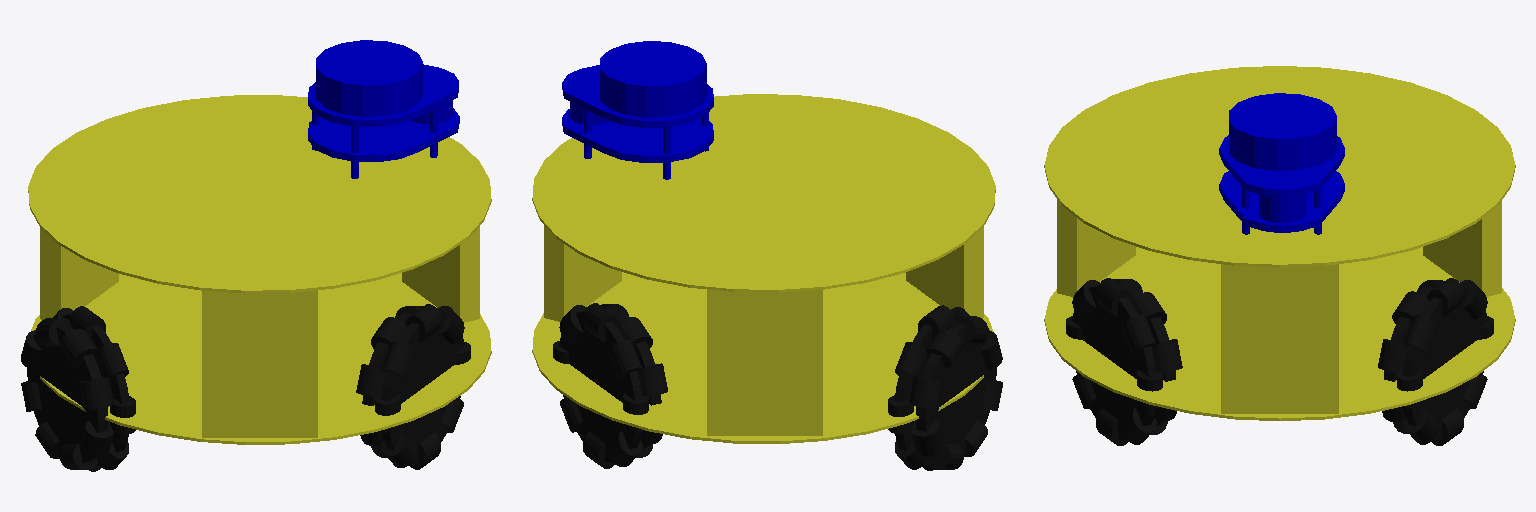
URDF robot description (macroed):
<?xml version="1.0" encoding="utf-8"?>
<!-- =================================================================================== -->
<!-- |    This document was autogenerated by xacro from 3WD_Omnibot.urdf.xacro         | -->
<!-- |    EDITING THIS FILE BY HAND IS NOT RECOMMENDED                                 | -->
<!-- =================================================================================== -->
<robot name="macroed">
  <material name="dark_grey">
    <color rgba="0 0 0.8 1"/>
  </material>
  <material name="grey">
    <color rgba="0.1 0.1 0.1 1"/>
  </material>
  <material name="yellow">
    <color rgba="0.8 0.8 0.2 1"/>
  </material>
  <link name="base_link">
    <visual>
      <geometry>
        <mesh filename="package://nexus_base_ros/meshes/omnibot_body.dae"/>
      </geometry>
      <material name="yellow"/>
    </visual>
    <collision>
      <geometry>
        <cylinder length="0.115" radius="0.15"/>
      </geometry>
    </collision>
  </link>
  <link name="left_wheel_link">
    <visual>
      <origin rpy="1.57079632679 0 0"/>
      <geometry>
        <mesh filename="package://nexus_base_ros/meshes/mecanum_wheel.dae"/>
      </geometry>
      <material name="grey"/>
    </visual>
    <collision>
      <origin rpy="1.57079632679 0 0" xyz="0 0 0"/>
      <geometry>
        <cylinder length="0.1" radius="0.02"/>
      </geometry>
    </collision>
  </link>
  <joint name="left_wheel_joint" type="continuous">
    <axis rpy="0 0 0" xyz="0 1 0"/>
    <parent link="base_link"/>
    <child link="left_wheel_link"/>
    <origin rpy="0 0 -0.523598775598" xyz="0.0625 0.108253175473 0"/>
  </joint>
  <link name="back_wheel_link">
    <visual>
      <origin rpy="4.71238898038 0 0"/>
      <geometry>
        <mesh filename="package://nexus_base_ros/meshes/mecanum_wheel.dae"/>
      </geometry>
      <material name="grey"/>
    </visual>
    <collision>
      <origin rpy="1.57079632679 0 0" xyz="0 0 0"/>
      <geometry>
        <cylinder length="0.1" radius="0.02"/>
      </geometry>
    </collision>
  </link>
  <joint name="back_wheel_joint" type="continuous">
    <axis rpy="0 0 0" xyz="0 1 0"/>
    <parent link="base_link"/>
    <child link="back_wheel_link"/>
    <origin rpy="0 0 1.57079632679" xyz="-0.125 1.53080849893e-17 0"/>
  </joint>
  <link name="right_wheel_link">
    <visual>
      <origin rpy="1.57079632679 0 0"/>
      <geometry>
        <mesh filename="package://nexus_base_ros/meshes/mecanum_wheel.dae"/>
      </geometry>
      <material name="grey"/>
    </visual>
    <collision>
      <origin rpy="1.57079632679 0 0"/>
      <geometry>
        <cylinder length="0.1" radius="0.02"/>
      </geometry>
    </collision>
  </link>
  <joint name="right_wheel_joint" type="continuous">
    <axis rpy="0 0 0" xyz="0 1 0"/>
    <parent link="base_link"/>
    <child link="right_wheel_link"/>
    <origin rpy="0 0 3.66519142919" xyz="0.0625 -0.108253175473 0"/>
  </joint>
  <link name="lidar_link">
    <visual>
      <origin rpy="0 0 0" xyz="0 0 0"/>
      <geometry>
        <mesh filename="package://nexus_base_ros/meshes/RPLIDAR_A1M8.dae"/>
      </geometry>
      <material name="dark_grey"/>
    </visual>
  </link>
  <joint name="lidar_joint" type="fixed">
    <parent link="base_link"/>
    <child link="lidar_link"/>
    <origin rpy="0 0 0" xyz="0.095 0 0.115"/>
  </joint>
</robot>

--- Render facts (derived) ---
The picture shows the robot from 3 angles, left to right: view 1: azimuth 30°, elevation 25°; view 2: azimuth 150°, elevation 25°; view 3: azimuth 270°, elevation 25°; orthographic projection.
Model macroed with 5 links and 4 joints (3 continuous, 1 fixed), rooted at base_link, posed every joint at zero.
Visible links, largest first — view 1: base_link, lidar_link, back_wheel_link, right_wheel_link; view 2: base_link, lidar_link, back_wheel_link, left_wheel_link; view 3: base_link, lidar_link, right_wheel_link, left_wheel_link.
Boxes of the visible links, x1=… form: base_link: x1=28, y1=95, x2=491, y2=444; lidar_link: x1=308, y1=40, x2=459, y2=178; back_wheel_link: x1=21, y1=306, x2=135, y2=471; right_wheel_link: x1=356, y1=304, x2=470, y2=469; base_link: x1=532, y1=94, x2=995, y2=443; lidar_link: x1=562, y1=41, x2=713, y2=179; back_wheel_link: x1=888, y1=305, x2=1002, y2=470; left_wheel_link: x1=553, y1=303, x2=667, y2=468; base_link: x1=1044, y1=66, x2=1515, y2=420; lidar_link: x1=1219, y1=93, x2=1344, y2=234; right_wheel_link: x1=1066, y1=278, x2=1182, y2=445; left_wheel_link: x1=1378, y1=278, x2=1493, y2=445.
Size in the robot's own frame: 0.3033 by 0.3 by 0.2379 metres.
5 mesh visuals loaded from 3 distinct referenced files (3 Collada DAE).